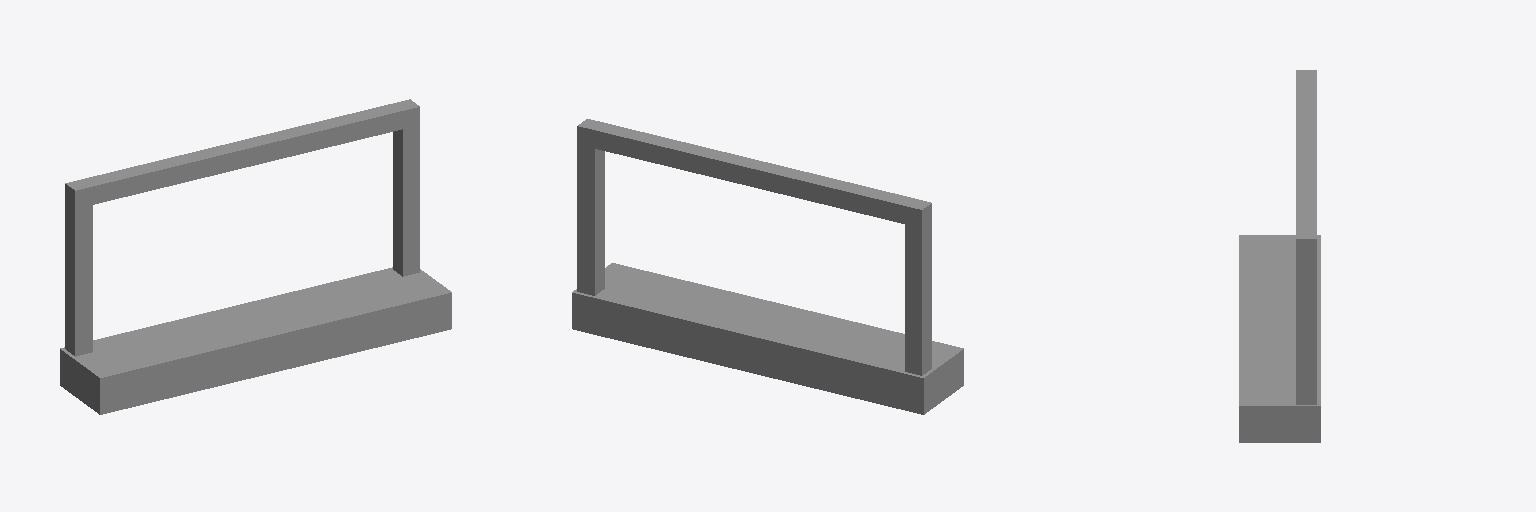
File: CombatZone.obj
The picture shows the model from 3 angles: view 1: azimuth 30°, elevation 25°; view 2: azimuth 150°, elevation 25°; view 3: azimuth 270°, elevation 25°; orthographic projection.
Visible parts, largest first — view 1: Cube; view 2: Cube; view 3: Cube.
Boxes of the visible parts, x1,y1,x2,y2 form: Cube: [60, 99, 451, 414]; Cube: [572, 119, 963, 414]; Cube: [1239, 70, 1320, 442].
Bounding box in the file's own units: 10 × 5.5 × 2.